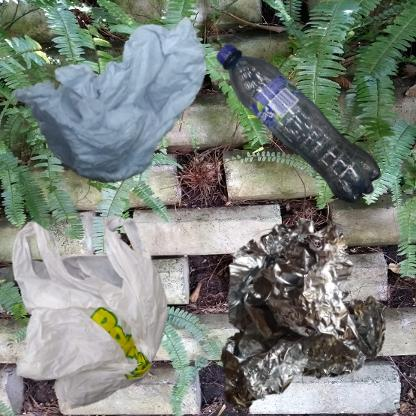aluminio: (213, 213, 392, 416)
bolsa: (10, 213, 172, 412)
botella: (213, 10, 416, 269)
papel: (10, 10, 209, 187)
